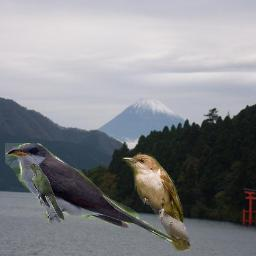Cuckoo: (5, 143, 181, 249), (121, 152, 191, 252), (26, 163, 66, 220)
